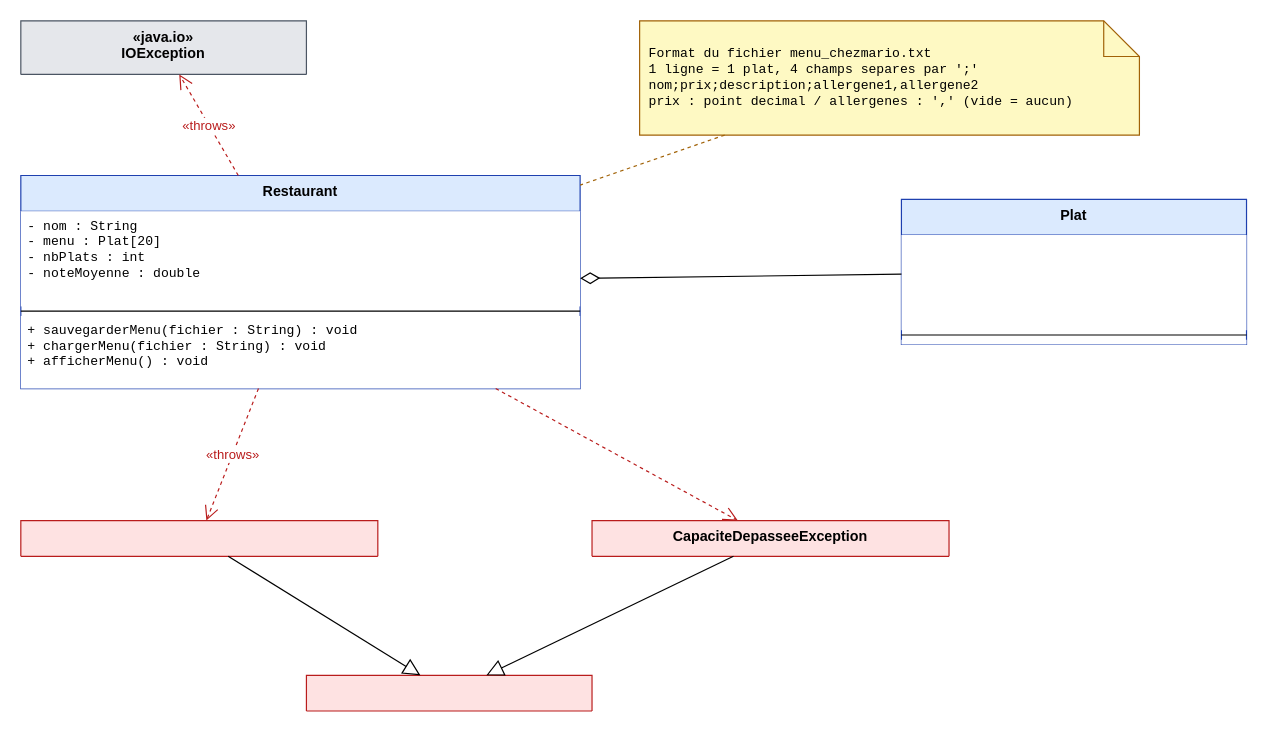
Some shapes in this 1267 by 732 pixel diagram are drawn without their labels. The centre of each missing label's shape, as x and y in pixels:
- nom : String - prix : double - description : String - allergenes : String[]: (1073,282)
FastBiteException: (448,692)
FormatFichierException: (199,537)
